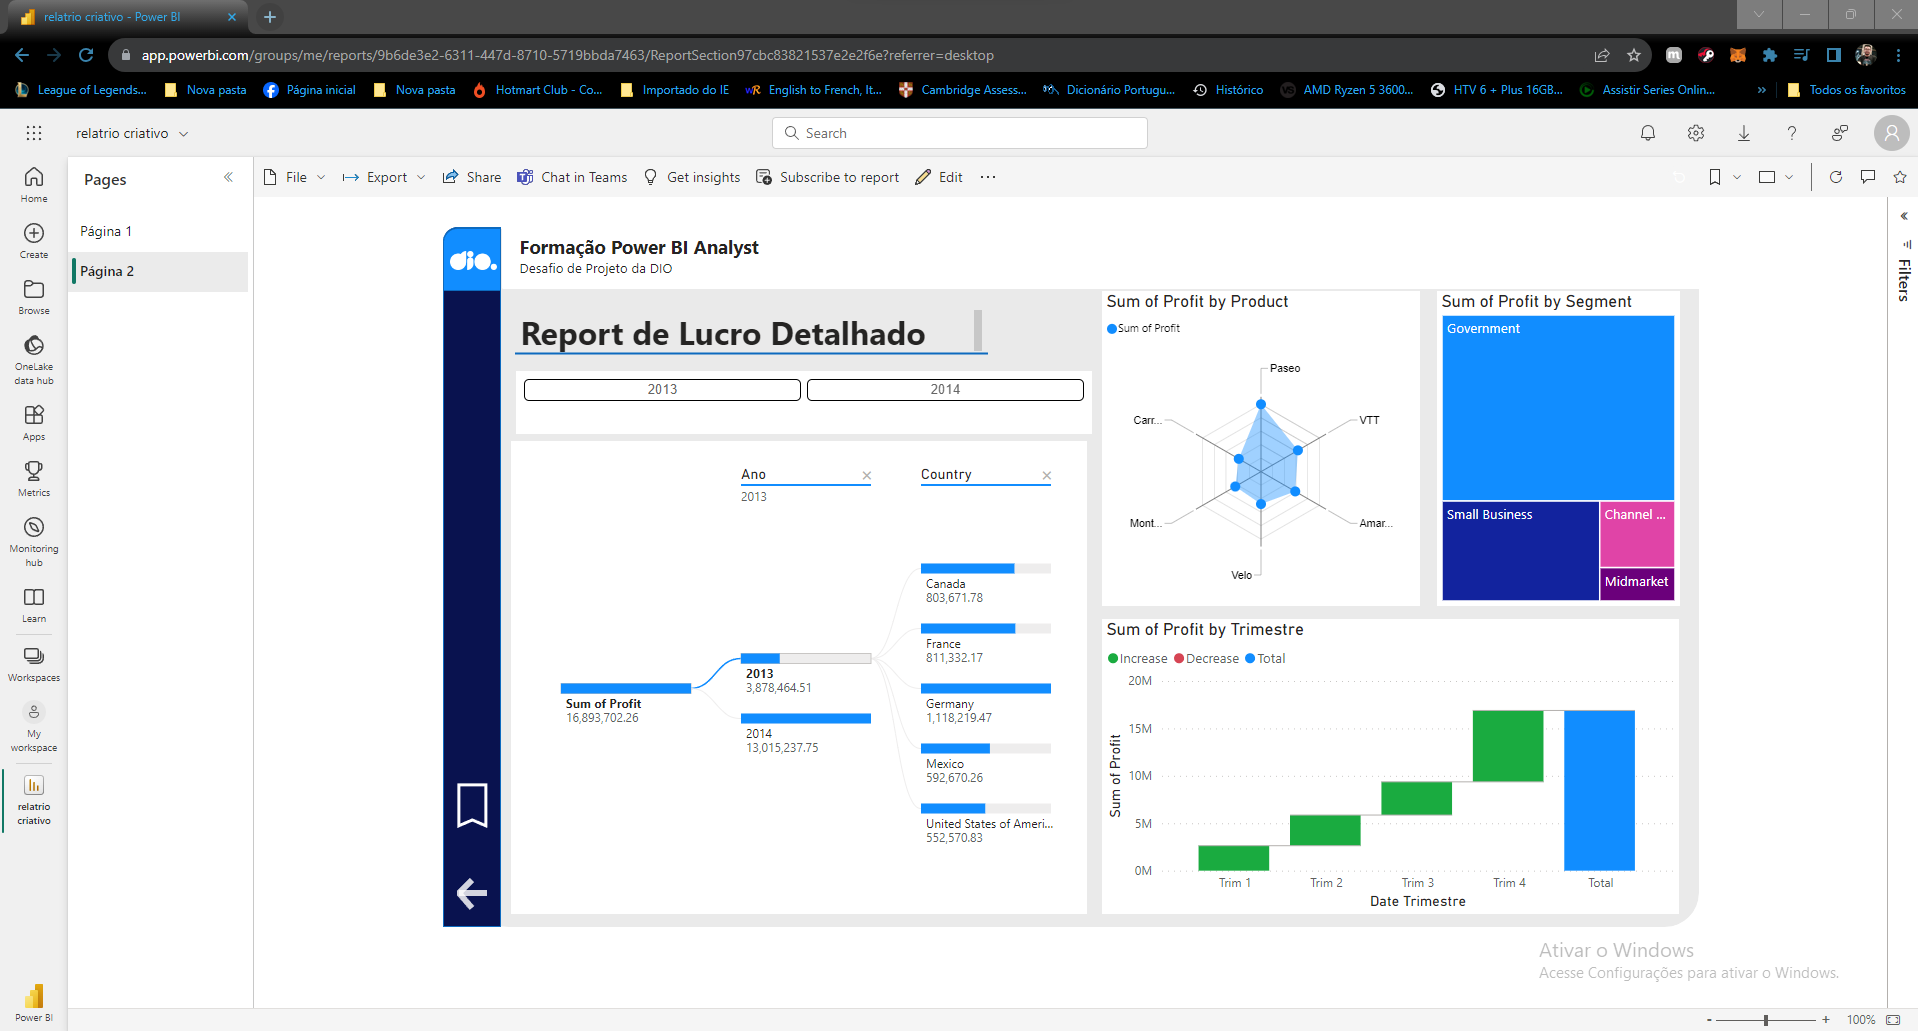

This screenshot's page, from the dashboard's own definition file:
{"tool":"powerbi","page":{"name":"Página 2","canvas":[1280,720],"ordinal":1},"visuals":[{"type":"shape","box":[42.6,20.7,1225.3,699.3],"z":0},{"type":"shape","box":[83.9,127.8,472.9,37.1],"z":0,"group":"g1"},{"type":"textbox","box":[85.3,97.6,470.2,52.2],"z":1000,"group":"g1"},{"type":"shape","box":[12.4,20.2,57.7,699.8],"z":1000},{"type":"shape","box":[12.4,20.6,57.7,63.2],"z":2000},{"type":"image","box":[13.7,33,57.7,39.9],"z":3000},{"type":"shape","title":"Fundo do Título","box":[71.5,20.6,1198.9,61.9],"z":4000},{"type":"textbox","title":"Título do report","box":[83.9,22,378.1,63.2],"z":5000},{"type":"shape","box":[79.7,233.7,576.1,472.9],"z":6000},{"type":"decompositionTreeVisual","fields":{"Analyze":["Sum(financials.Profit)"],"ExplainBy":["financials.Date.Variation.Hierarquia de datas.Ano","financials.Country"]},"box":[99.8,242.2,536.3,456.5],"z":7000},{"type":"waterfallChart","fields":{"Category":["financials.Date.Variation.Hierarquia de datas.Trimestre"],"Y":["Sum(financials.Profit)"]},"box":[670.9,412.4,577.4,294.2],"z":8000},{"type":"ChicletSlicer1448559807354","fields":{"Category":["financials.Date.Variation.Hierarquia de datas.Ano"]},"box":[84.6,164,576.5,63.5],"z":9000},{"type":"RadarChart1446119667547","fields":{"Category":["financials.Product"],"Y":["Sum(financials.Profit)"]},"box":[671.4,84.3,317.1,314.3],"z":10000},{"type":"treemap","fields":{"Values":["Sum(financials.Profit)"],"Group":["financials.Segment"]},"box":[1005.7,84.3,242.8,314.3],"z":11000},{"type":"actionButton","box":[22,666.8,48.1,39.9],"z":12000},{"type":"group","id":"g1","title":"Sales report","box":[83.9,97.6,472.9,67.4],"z":13000},{"type":"actionButton","box":[12.8,545.8,57,105.5],"z":14000}]}

Visuals, with their boxes on the page's 1280x720 design canvas (x1, y1, x2, y2). These are canvas units, not pixel positions in the 1918x1031 screenshot, which may show the page scaled, cropped or inside an application window:
shape: [43, 21, 1268, 720]
shape: [84, 128, 557, 165]
textbox: [85, 98, 556, 150]
shape: [12, 20, 70, 720]
shape: [12, 21, 70, 84]
image: [14, 33, 71, 73]
"Fundo do Título" shape: [72, 21, 1270, 82]
"Título do report" textbox: [84, 22, 462, 85]
shape: [80, 234, 656, 707]
decompositionTreeVisual - Sum(financials.Profit) x financials.Date.Variation.Hierarquia de datas.Ano: [100, 242, 636, 699]
waterfallChart - financials.Date.Variation.Hierarquia de datas.Trimestre x Sum(financials.Profit): [671, 412, 1248, 707]
ChicletSlicer1448559807354 - financials.Date.Variation.Hierarquia de datas.Ano: [85, 164, 661, 228]
RadarChart1446119667547 - financials.Product x Sum(financials.Profit): [671, 84, 988, 399]
treemap - Sum(financials.Profit) x financials.Segment: [1006, 84, 1248, 399]
actionButton: [22, 667, 70, 707]
"Sales report" group: [84, 98, 557, 165]
actionButton: [13, 546, 70, 651]
